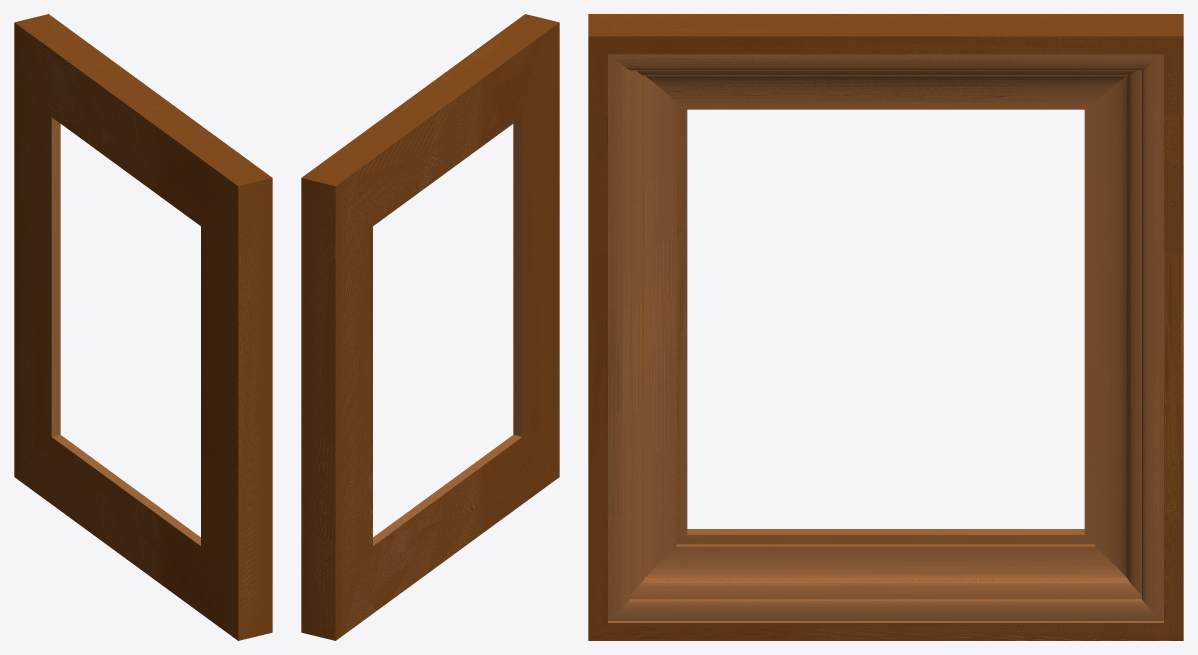
The model's file is frame.dae.
The picture shows the model from 3 angles, left to right: view 1: azimuth 30°, elevation 25°; view 2: azimuth 150°, elevation 25°; view 3: azimuth 270°, elevation 25°; orthographic projection. The views are drawn at different scales.
Parts seen in each view (by area): view 1: group_0; view 2: group_0; view 3: group_0.
Boxes of the visible parts, left/top/right/bottom form: group_0: left=14, top=14, right=272, bottom=640; group_0: left=301, top=14, right=559, bottom=640; group_0: left=588, top=14, right=1183, bottom=640.
Bounding box in the file's own units: 0.4344 × 4.9 × 5.49.
Materials: 1 (1 with a texture image).
